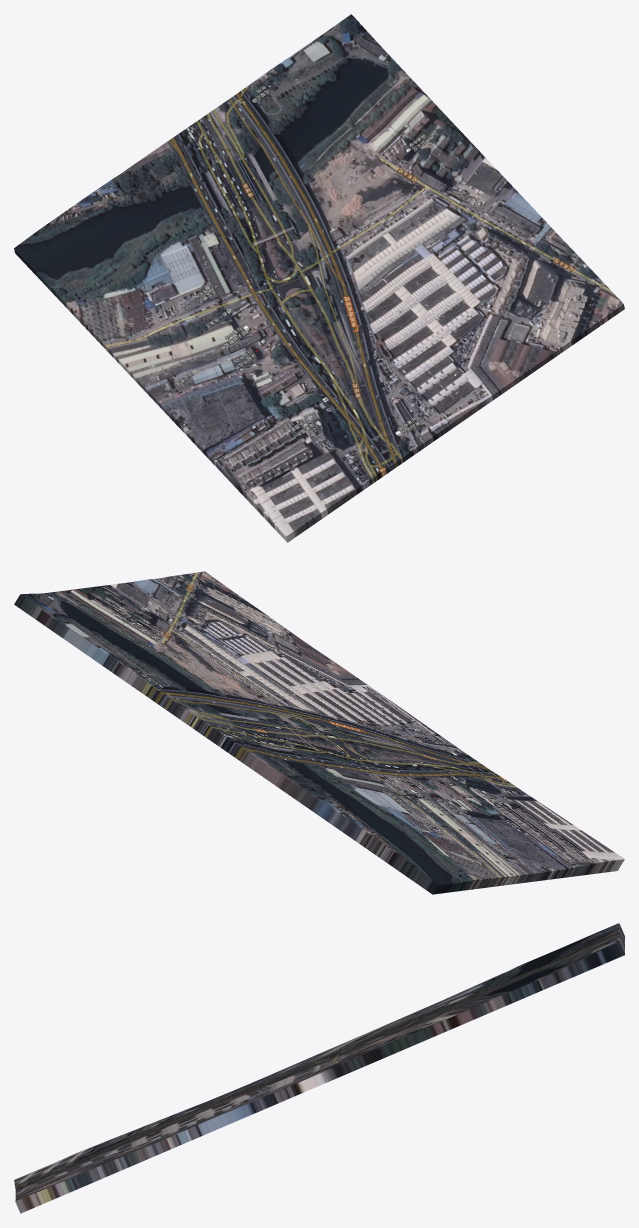
The picture shows the model from 3 angles, top to bottom: view 1: azimuth 30°, elevation 25°; view 2: azimuth 150°, elevation 25°; view 3: azimuth 270°, elevation 25°; orthographic projection. The views are drawn at different scales.
Parts seen in each view (by area): view 1: 0_1_3; view 2: 0_1_3; view 3: 0_1_3.
Part boxes in pixels (bbox=[...]): 0_1_3: bbox=[14, 14, 624, 542]; 0_1_3: bbox=[14, 571, 624, 894]; 0_1_3: bbox=[14, 923, 624, 1213].
Bounding box in the file's own units: 596 × 439 × 548.
1 material, 1 textured.
